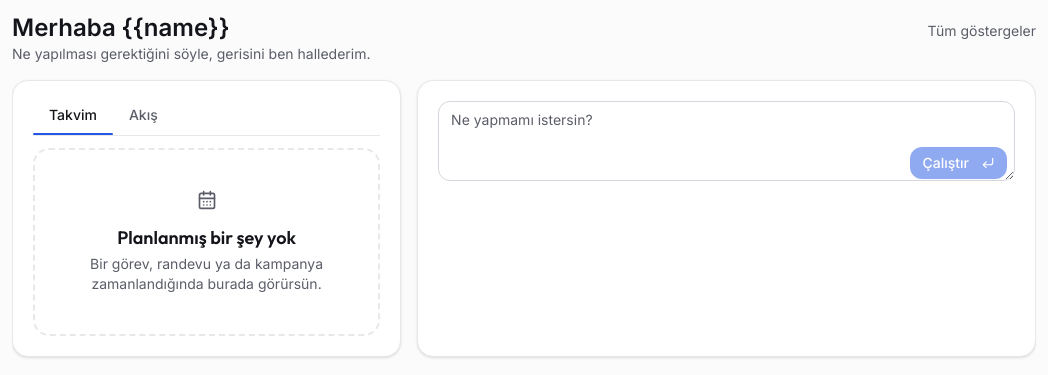
Test: CommandCenterPage › surfaces a failed command instead of leaving it spinning
The width and height of the screenshot is (1048, 375).
Type "bir şey yap" into the text box at (727, 141), box [438, 101, 1015, 181]
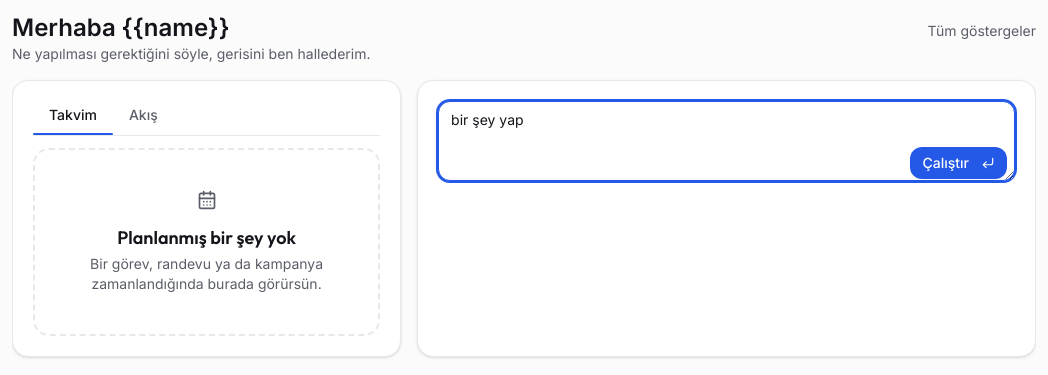
Click the button "Çalıştır" at (959, 163), box [910, 147, 1007, 179]
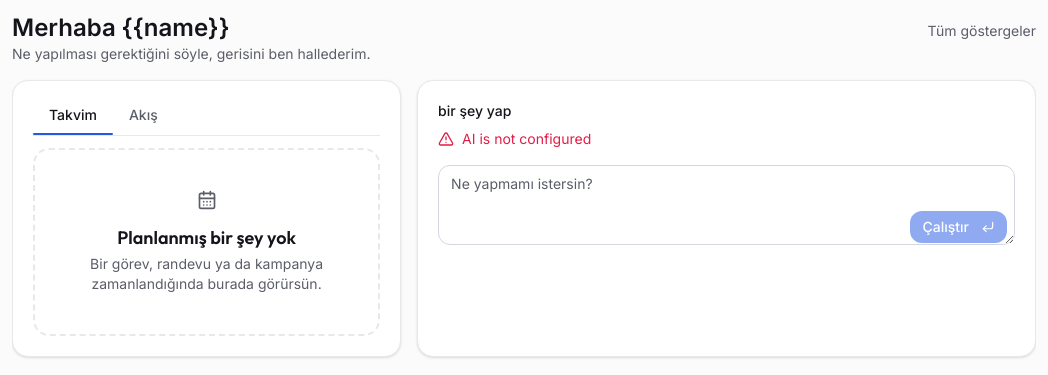
Expected: the text "AI is not configured" is shown, [438, 130, 591, 147]
